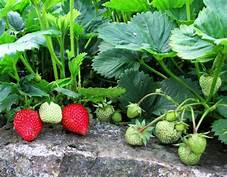Fresa: (12, 106, 47, 144), (58, 101, 91, 138)
